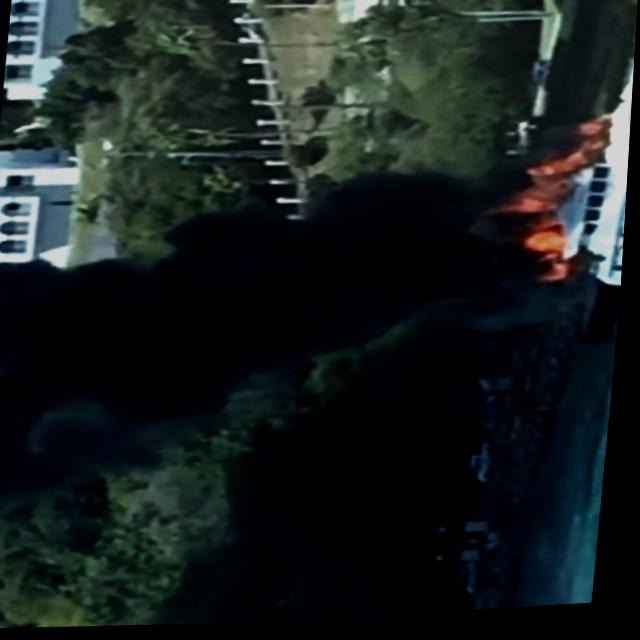smoke: (91, 180, 474, 366), (0, 257, 165, 498)
